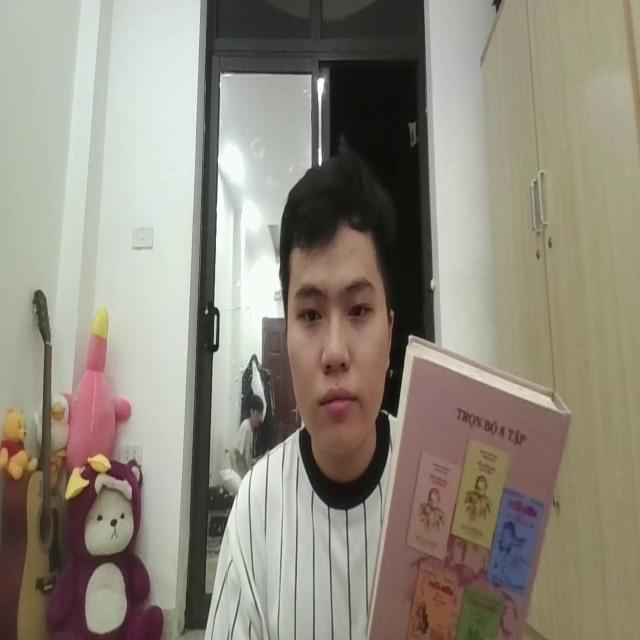book: (367, 313, 572, 640)
student: (214, 148, 418, 640)
